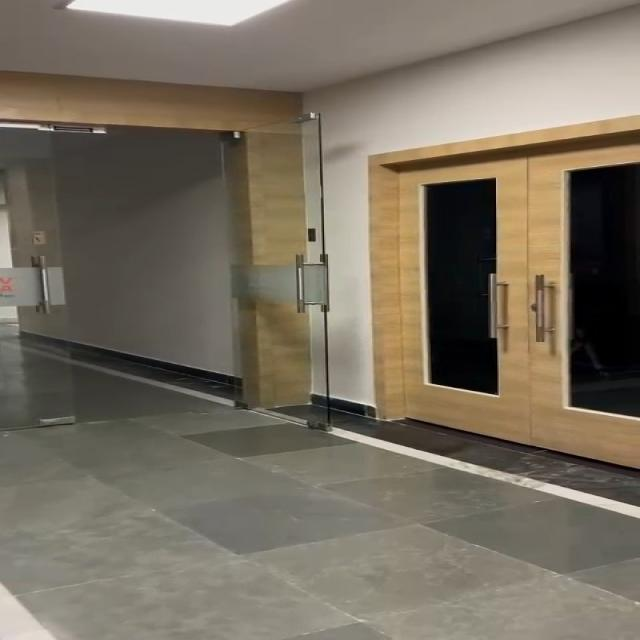door: (8, 83, 306, 408), (382, 180, 640, 458)
floor: (8, 430, 640, 639)
